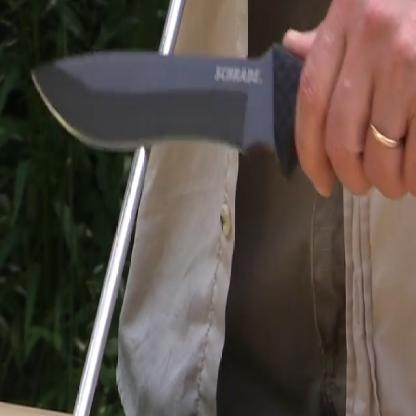knife: (19, 0, 415, 220)
